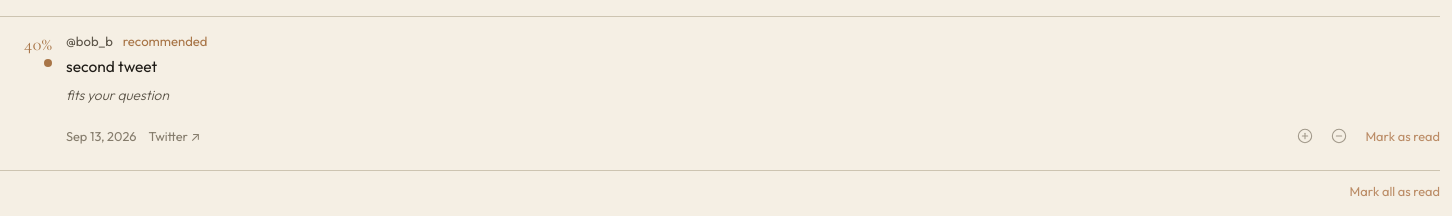
rating a pick marks it read too
Click the button named "Good quote".
click(1305, 136)  # box x1=1288 y1=116 x2=1322 y2=156
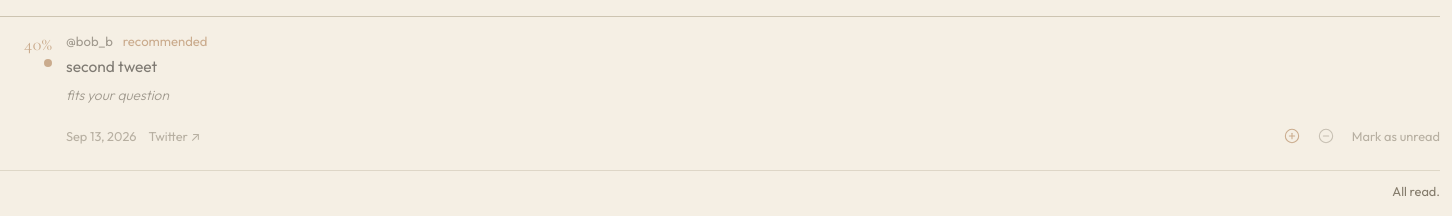
Now the button "Mark as unread" is shown, box x1=1352 y1=128 x2=1440 y2=144
Now the text "All read." is shown, box x1=1392 y1=183 x2=1440 y2=199
